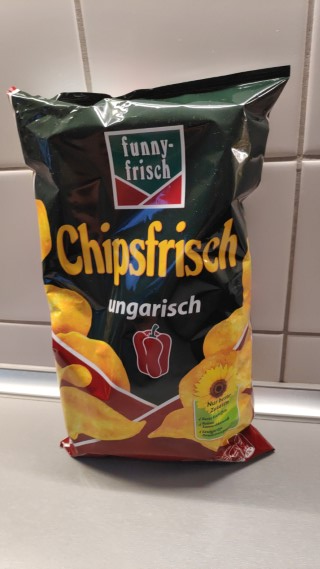chipsfrisch: (6, 62, 293, 466)
